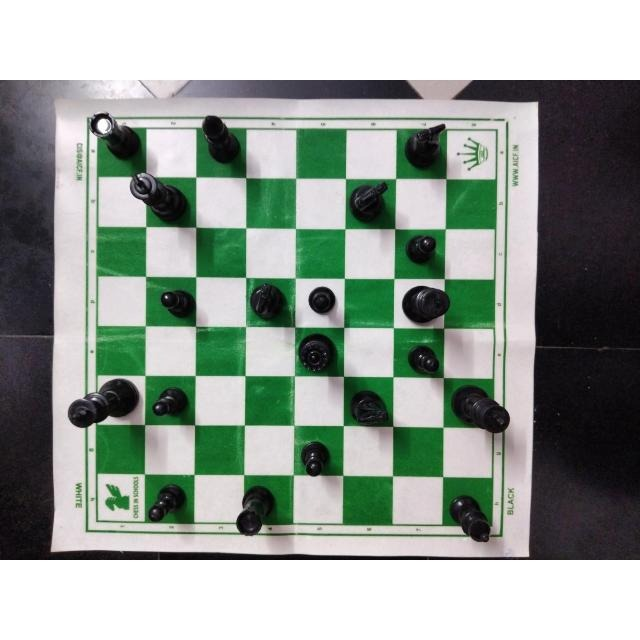black-bishop: (449, 491, 493, 545), (200, 114, 242, 164)
black-king: (67, 378, 141, 430), (448, 383, 513, 435), (127, 171, 189, 223), (401, 283, 453, 325)
black-knight: (403, 122, 447, 170), (347, 180, 390, 226), (349, 388, 393, 428), (247, 279, 287, 320)
black-pawn: (146, 484, 188, 523), (299, 440, 332, 480), (150, 385, 190, 418), (157, 287, 196, 319), (406, 342, 442, 376), (404, 234, 440, 264), (306, 284, 337, 314)
black-queen: (295, 332, 337, 374)
black-rook: (88, 110, 144, 162), (234, 483, 278, 537)
